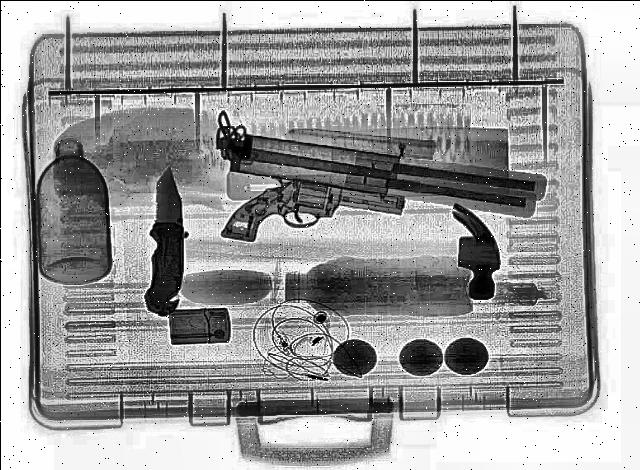Gun: (214, 124, 550, 244)
Knife: (141, 168, 187, 316)
